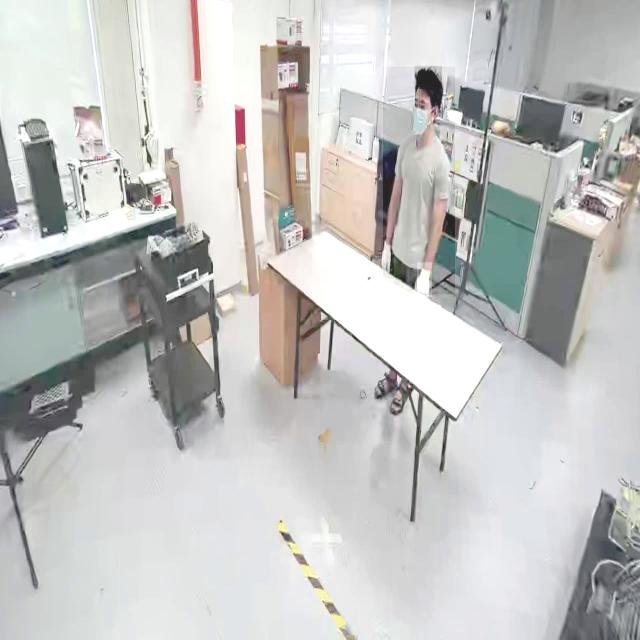face_mask: (412, 91, 433, 135)
hand_glove: (381, 237, 395, 279), (417, 262, 433, 298)
head_nohelmet: (414, 66, 442, 90)
person: (383, 67, 455, 295)
